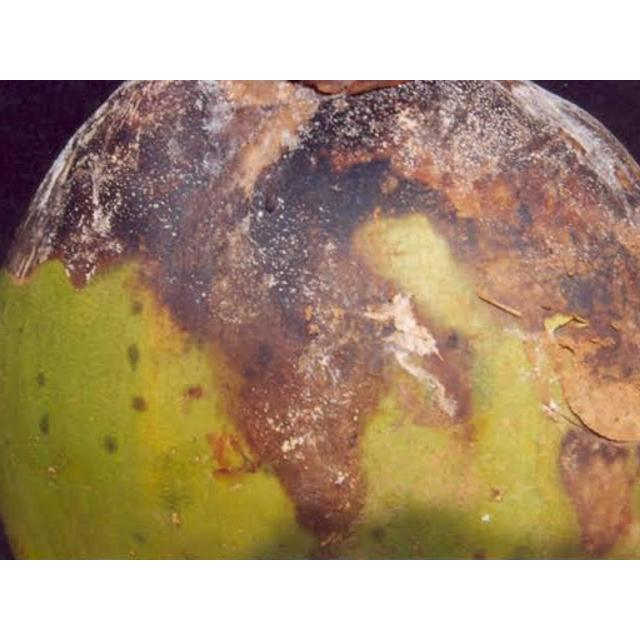damaged: (0, 80, 639, 559)
